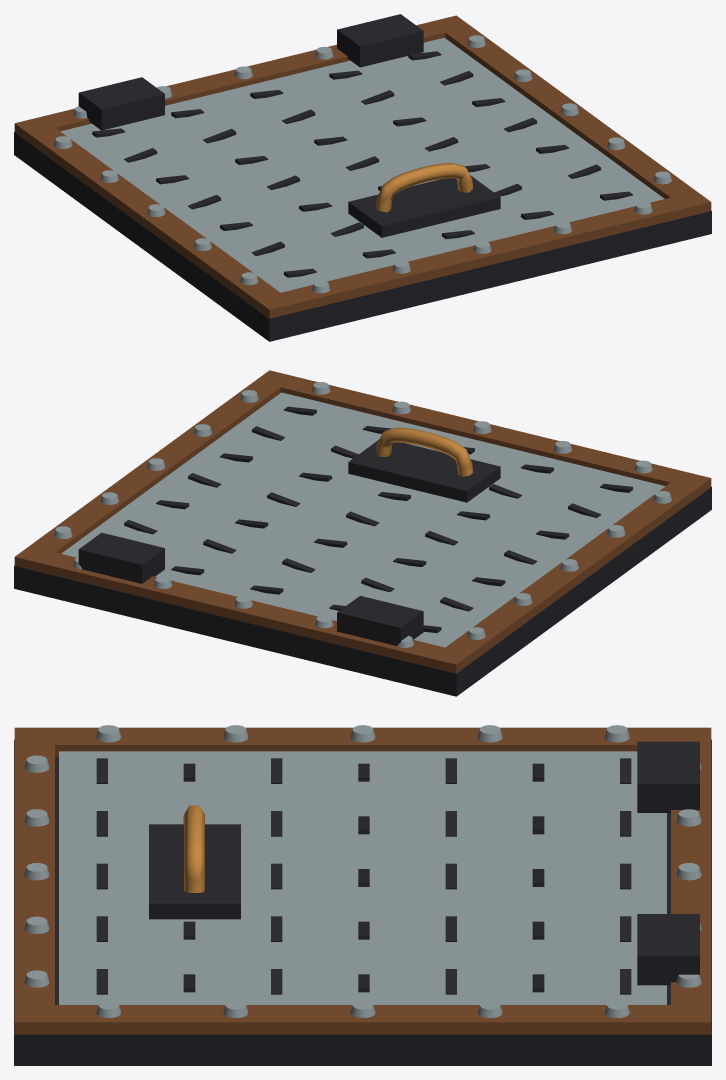
Rendered from mia-hatch.glb.
The picture shows the model from 3 angles, top to bottom: view 1: azimuth 30°, elevation 25°; view 2: azimuth 150°, elevation 25°; view 3: azimuth 270°, elevation 25°; orthographic projection. The views are drawn at different scales.
Parts seen in each view (by area): view 1: Body_steel, Body_iron, Body_rust, Body_brass; view 2: Body_steel, Body_iron, Body_rust, Body_brass; view 3: Body_steel, Body_iron, Body_rust, Body_brass.
Boxes of the visible parts, x1,y1,x2,y2 form: Body_steel: (54,35,671,293); Body_iron: (14,14,711,341); Body_rust: (14,15,711,318); Body_brass: (376,163,473,212); Body_steel: (54,382,671,647); Body_iron: (14,406,711,696); Body_rust: (14,370,711,673); Body_brass: (376,427,473,476); Body_steel: (24,725,701,1017); Body_iron: (14,739,711,1065); Body_rust: (14,727,711,1034); Body_brass: (184,805,204,892).
Size of the model in its own units: 1.4 by 0.2147 by 1.4.
